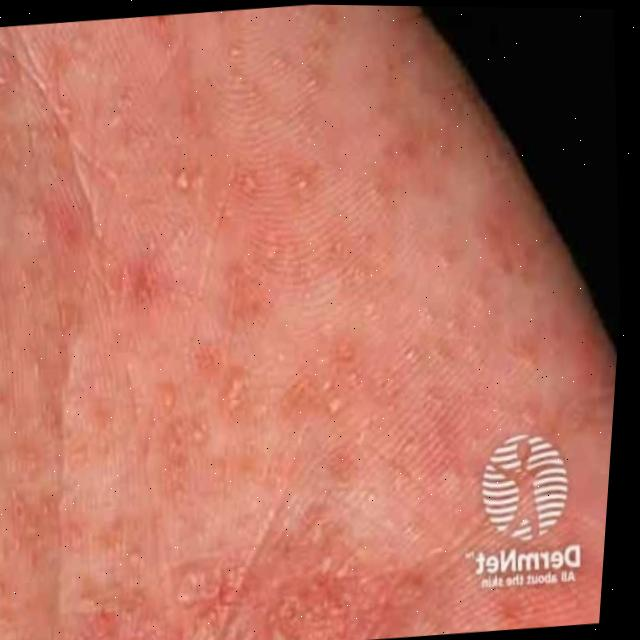Eczema: (11, 13, 534, 634)
